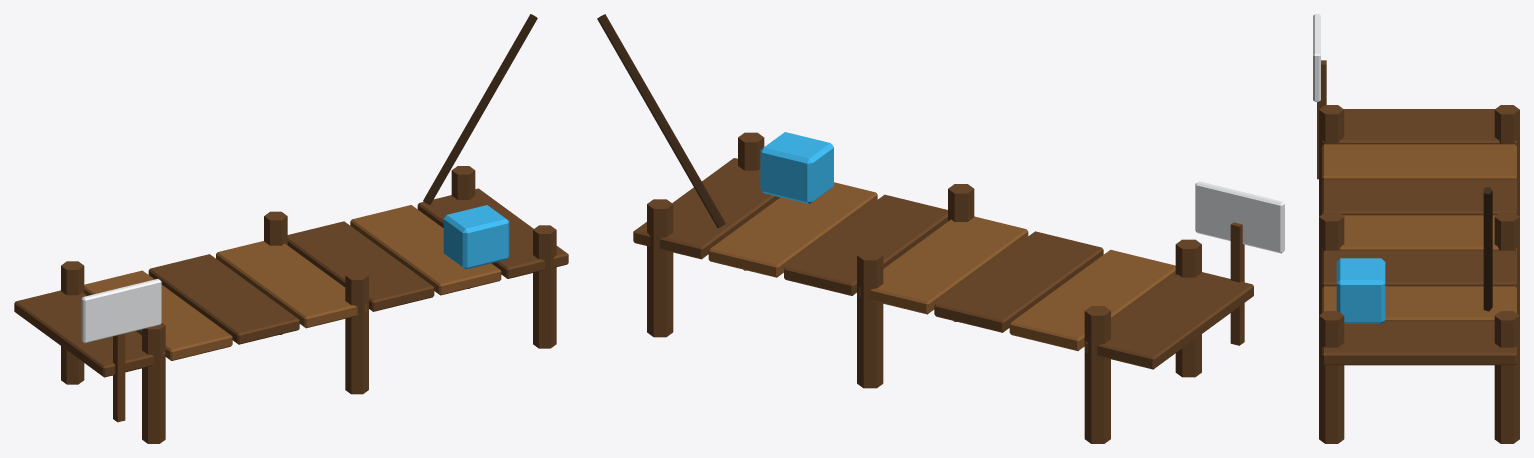
The model's file is jetty.glb.
3 views of the same model, side by side, from view 1: azimuth 30°, elevation 25°; view 2: azimuth 150°, elevation 25°; view 3: azimuth 270°, elevation 25° (orthographic). The views are drawn at different scales.
Parts seen in each view (by area): view 1: g_m_6b4423, g_m_8a5a2b, g_m_f8fafc, g_m_38bdf8, g_m_3f2a17; view 2: g_m_6b4423, g_m_8a5a2b, g_m_f8fafc, g_m_38bdf8, g_m_3f2a17; view 3: g_m_6b4423, g_m_8a5a2b, g_m_38bdf8, g_m_3f2a17, g_m_f8fafc.
Part boxes in pixels (<box>): g_m_6b4423: <box>14,166,568,443</box>; g_m_8a5a2b: <box>84,205,501,360</box>; g_m_f8fafc: <box>81,279,161,343</box>; g_m_38bdf8: <box>443,205,509,269</box>; g_m_3f2a17: <box>423,14,537,204</box>; g_m_6b4423: <box>633,132,1253,443</box>; g_m_8a5a2b: <box>708,182,1175,350</box>; g_m_f8fafc: <box>1195,181,1284,253</box>; g_m_38bdf8: <box>760,132,833,204</box>; g_m_3f2a17: <box>597,14,725,228</box>; g_m_6b4423: <box>1317,60,1519,443</box>; g_m_8a5a2b: <box>1322,144,1516,321</box>; g_m_38bdf8: <box>1336,258,1385,323</box>; g_m_3f2a17: <box>1483,186,1492,311</box>; g_m_f8fafc: <box>1313,14,1320,101</box>.
Bounding box in the file's own units: 6.83 × 3.21 × 2.12.
